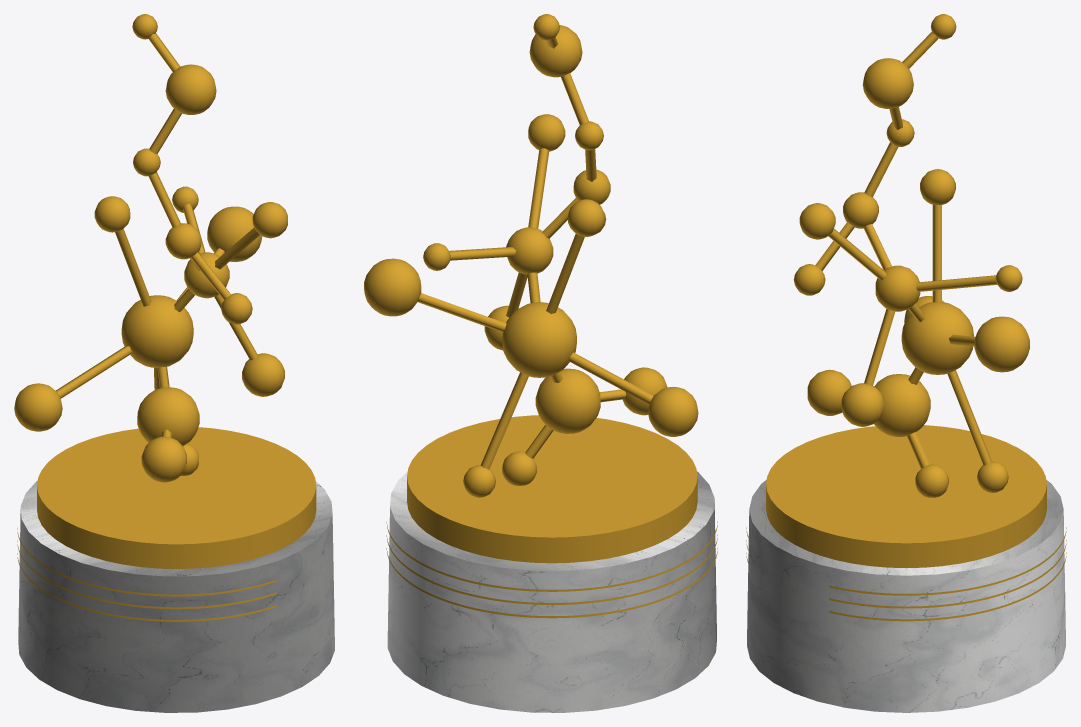
The model's file is chemistry.glb.
3 views of the same model, side by side, from view 1: azimuth 30°, elevation 25°; view 2: azimuth 150°, elevation 25°; view 3: azimuth 270°, elevation 25° (orthographic). The views are drawn at different scales.
Visible parts, largest first — view 1: marble_column, gold_cap, chemistry_award, hub_low, arm_1a, arm_1c, leg_a, arm_2a, arm_1d, arm_2c, bond_10, bond_11 (+7 smaller); view 2: marble_column, gold_cap, chemistry_award, hub_low, arm_1a, arm_1c, leg_a, arm_1d, arm_2c, bond_09, bond_10, leg_b (+11 smaller); view 3: marble_column, gold_cap, chemistry_award, hub_low, arm_1a, leg_a, arm_2a, arm_2c, arm_1d, bond_09, leg_b, bond_11 (+11 smaller).
Boxes of the visible parts, x1=… form: marble_column: x1=18, y1=480, x2=334, y2=712; gold_cap: x1=37, y1=427, x2=316, y2=568; chemistry_award: x1=121, y1=64, x2=229, y2=367; hub_low: x1=137, y1=387, x2=199, y2=445; arm_1a: x1=207, y1=206, x2=262, y2=261; arm_1c: x1=14, y1=383, x2=62, y2=431; leg_a: x1=141, y1=436, x2=186, y2=482; arm_2a: x1=242, y1=353, x2=284, y2=396; arm_1d: x1=94, y1=196, x2=130, y2=232; arm_2c: x1=252, y1=202, x2=287, y2=238; bond_10: x1=56, y1=345, x2=132, y2=398; bond_11: x1=115, y1=229, x2=151, y2=306; marble_column: x1=387, y1=471, x2=716, y2=712; gold_cap: x1=407, y1=415, x2=697, y2=563; chemistry_award: x1=502, y1=25, x2=610, y2=377; hub_low: x1=535, y1=368, x2=600, y2=433; arm_1a: x1=364, y1=258, x2=421, y2=316; arm_1c: x1=648, y1=386, x2=698, y2=436; leg_a: x1=622, y1=367, x2=667, y2=415; arm_1d: x1=568, y1=199, x2=604, y2=236; arm_2c: x1=528, y1=114, x2=565, y2=151; bond_09: x1=480, y1=372, x2=528, y2=469; bond_10: x1=568, y1=352, x2=653, y2=404; leg_b: x1=502, y1=451, x2=536, y2=485; marble_column: x1=747, y1=480, x2=1065, y2=712; gold_cap: x1=766, y1=425, x2=1046, y2=568; chemistry_award: x1=843, y1=58, x2=973, y2=374; hub_low: x1=874, y1=374, x2=930, y2=436; arm_1a: x1=974, y1=316, x2=1029, y2=372; leg_a: x1=807, y1=369, x2=851, y2=415; arm_2a: x1=841, y1=383, x2=883, y2=426; arm_2c: x1=799, y1=203, x2=835, y2=239; arm_1d: x1=920, y1=169, x2=955, y2=204; bond_09: x1=947, y1=370, x2=992, y2=465; leg_b: x1=915, y1=464, x2=948, y2=497; bond_11: x1=932, y1=204, x2=941, y2=302.
Size of what is drawn, in the model's own units: 0.4717 by 0.9772 by 0.4543.
Materials: 3 (1 with a texture image).
